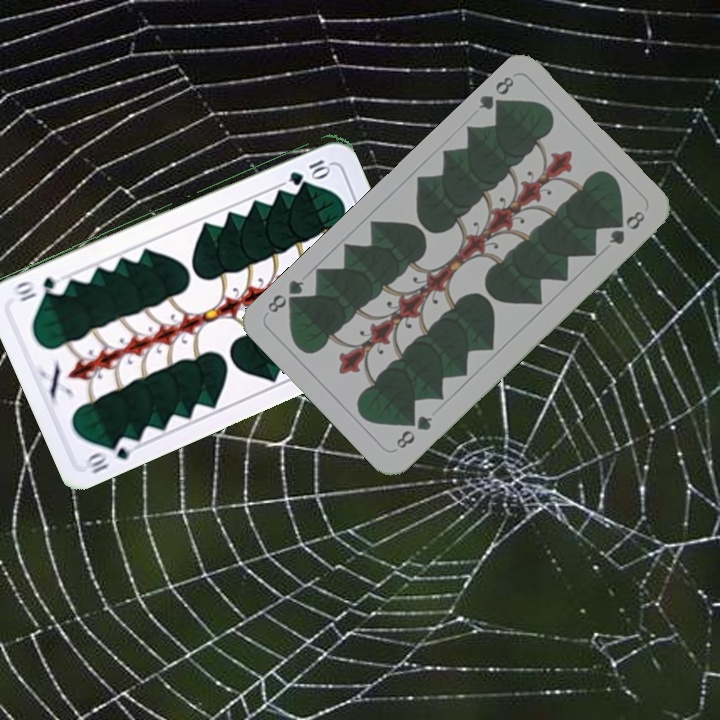G10: (81, 432, 140, 477), (285, 155, 333, 186)
G8: (474, 72, 517, 117), (391, 411, 436, 452)
